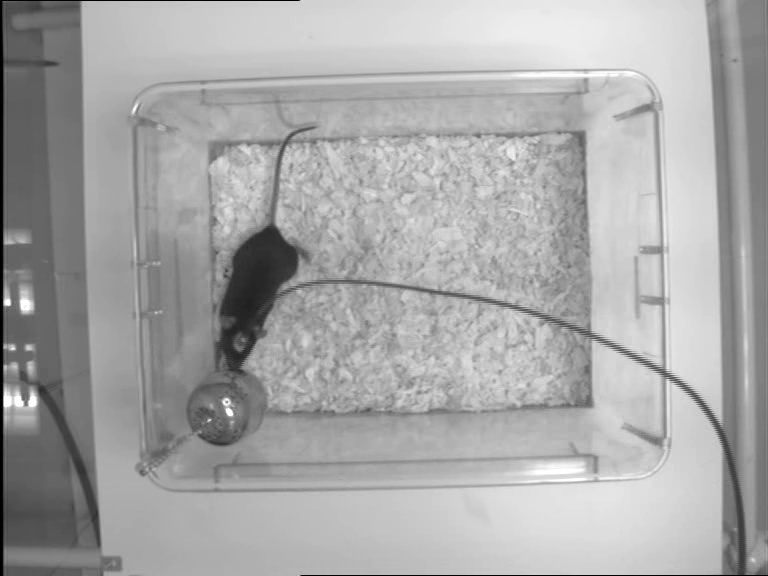mice: (216, 122, 320, 371)
